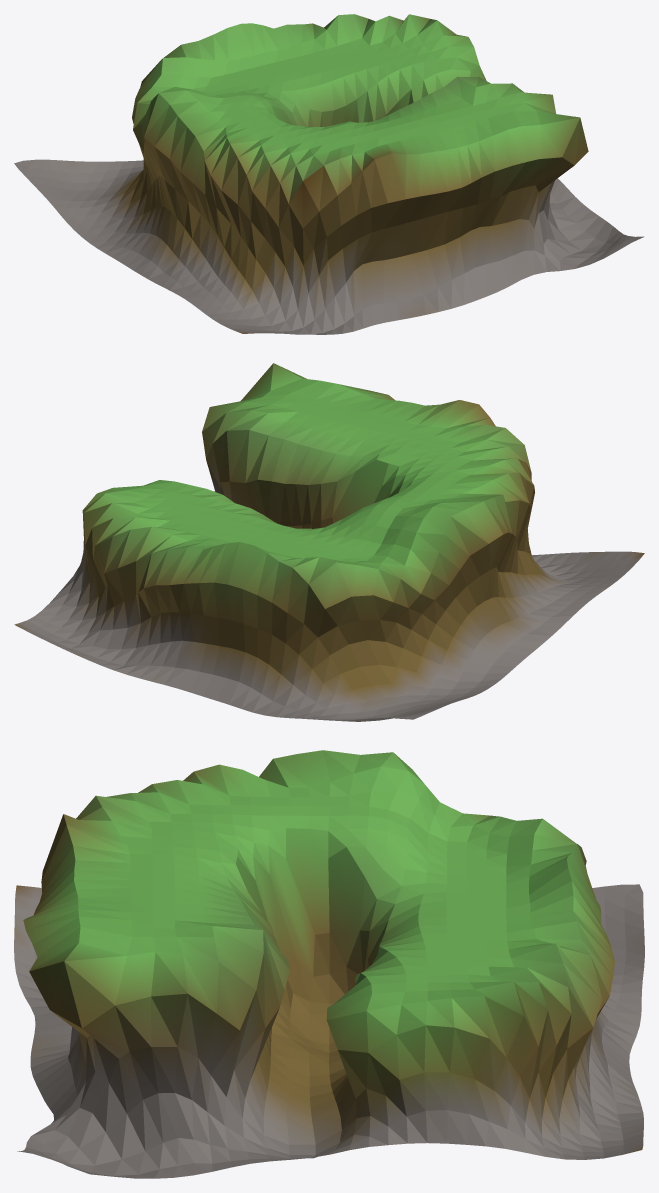
3 renders of one model, top to bottom at view 1: azimuth 30°, elevation 25°; view 2: azimuth 150°, elevation 25°; view 3: azimuth 270°, elevation 25°, orthographic. The views are drawn at different scales.
Visible parts, largest first — view 1: Plane; view 2: Plane; view 3: Plane.
Boxes of the visible parts, bbox=[...] form: Plane: bbox=[14, 14, 644, 334]; Plane: bbox=[14, 363, 644, 721]; Plane: bbox=[14, 750, 644, 1178].
Bounding box in the file's own units: 1423 × 529 × 1407.
